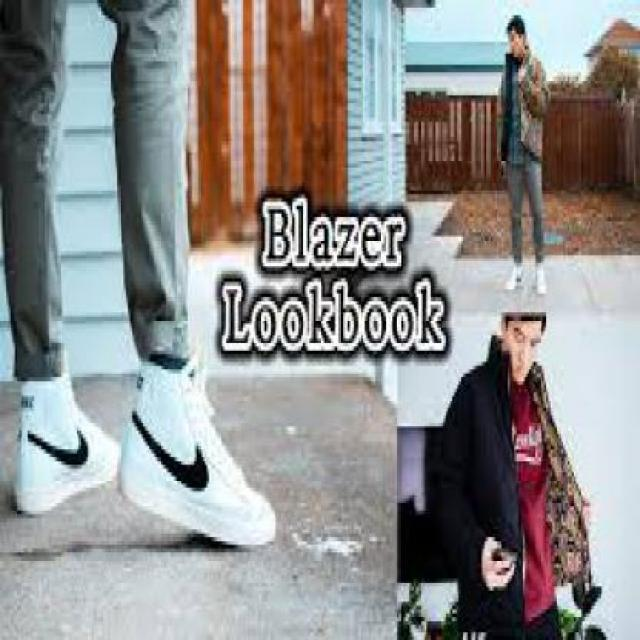Nike: (128, 400, 211, 491), (25, 423, 90, 465)
